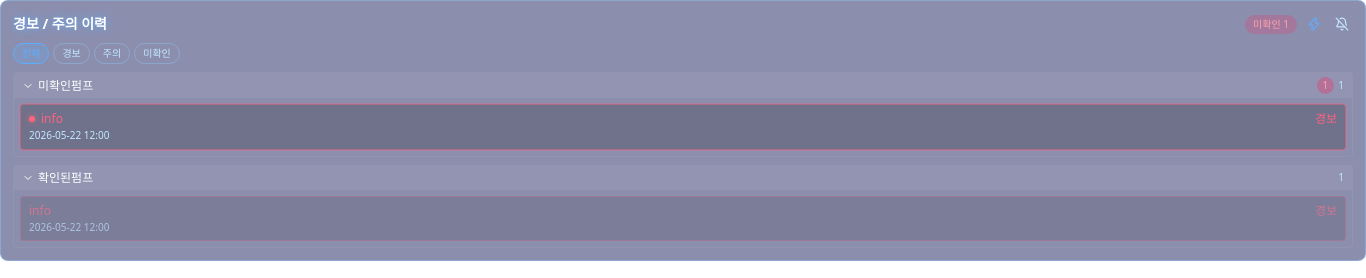
Test: AlertSidebar › 필터 "미확인" 클릭 시 read=true 항목 제외
Click the button "미확인". click: click(157, 54)
box: x1=134 y1=43 x2=180 y2=64
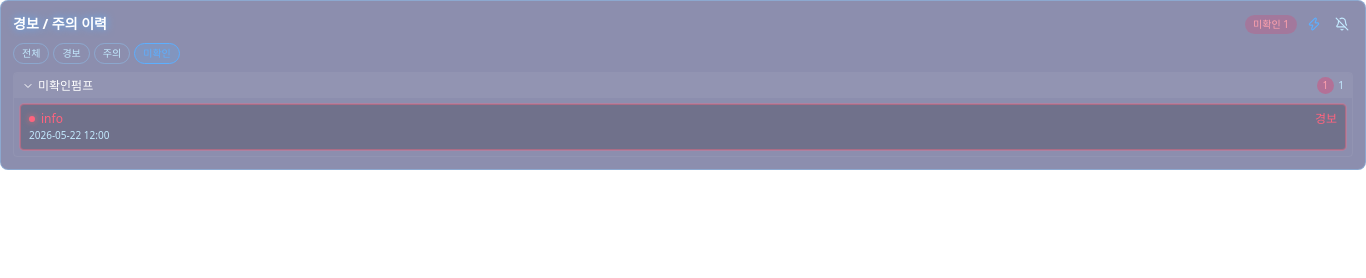
Expected: the text "미확인펌프" is shown, x1=38 y1=78 x2=93 y2=94
Expected: the button "확인된펌프" is gone
